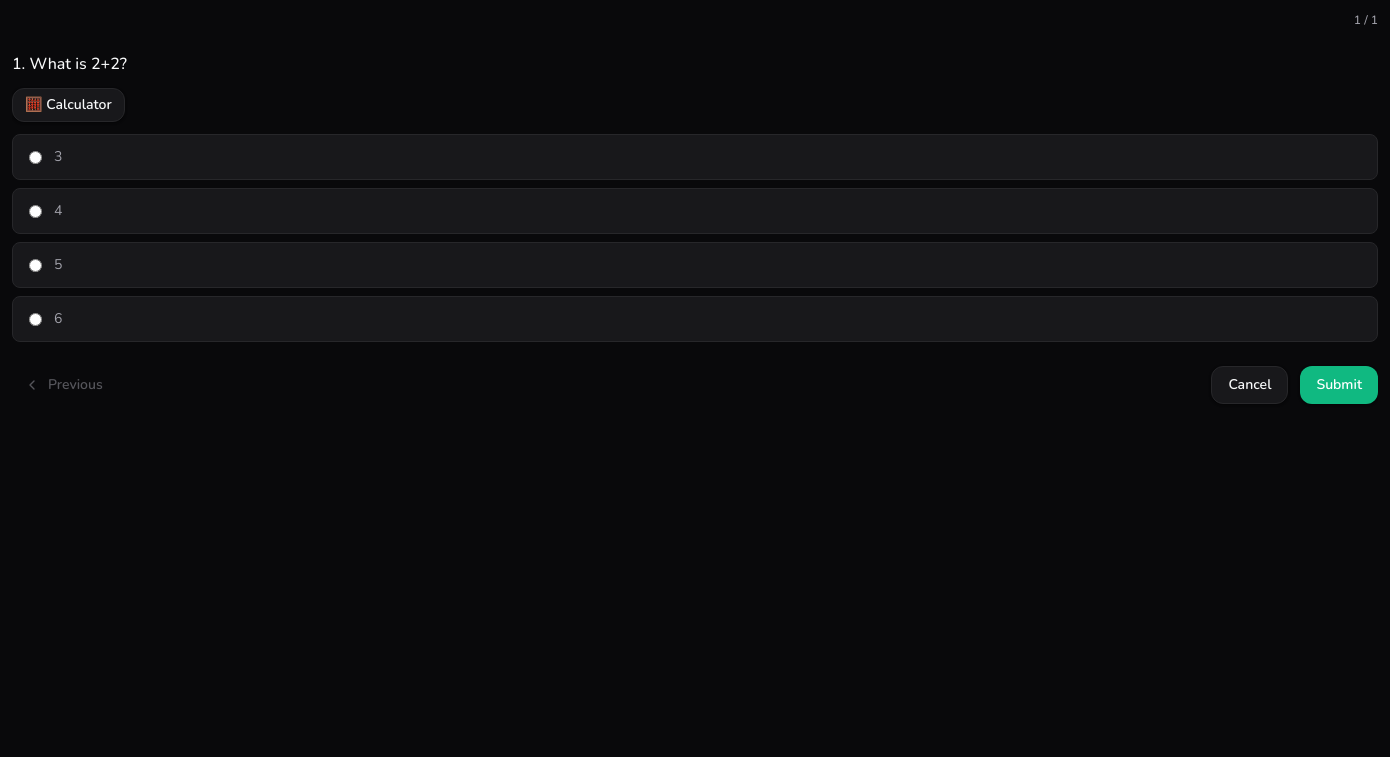
Scenario: AssessmentTaker › toggles calculator button label when clicked
Click the button with aria-label "open calculator". click: [68, 105]
box: left=12, top=88, right=125, bottom=122
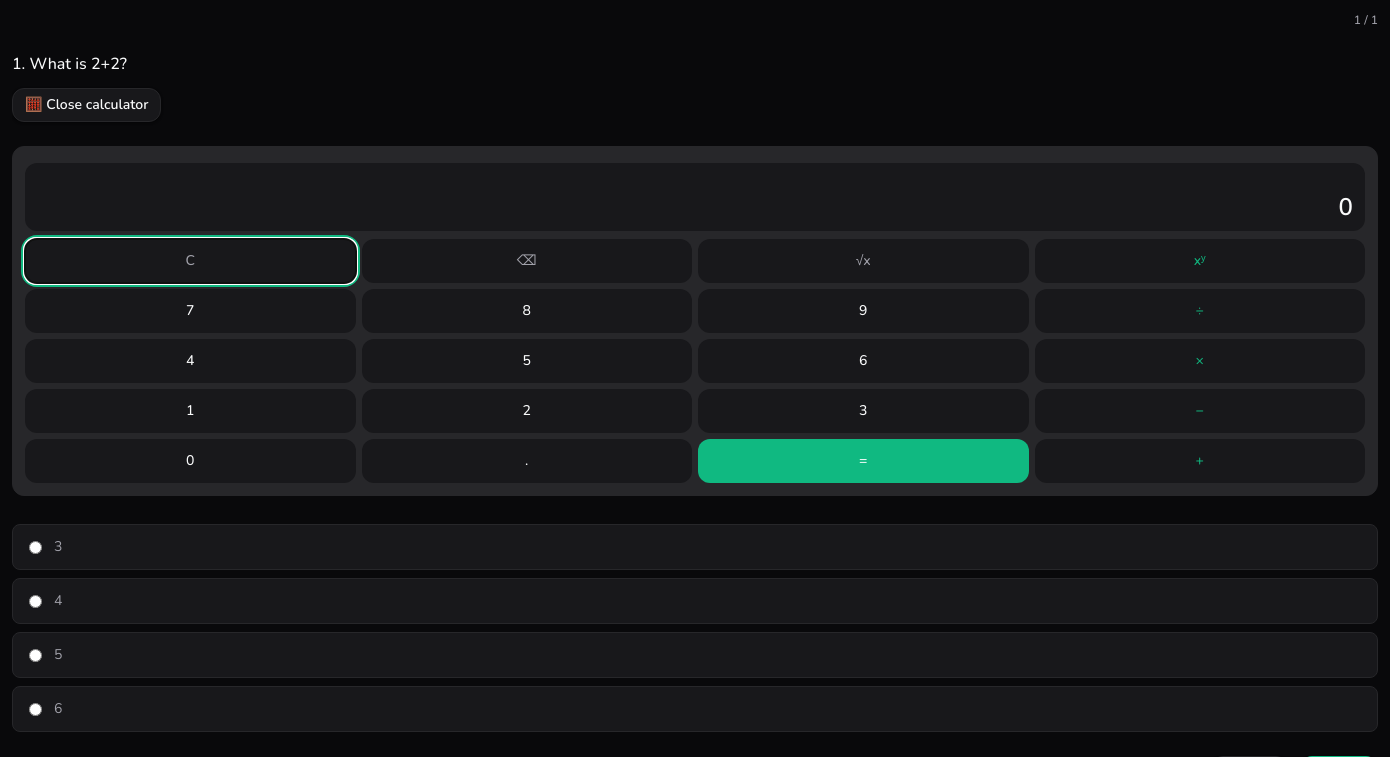
Expected: the button labelled "🧮 Close calculator" is shown, left=12, top=88, right=162, bottom=122
